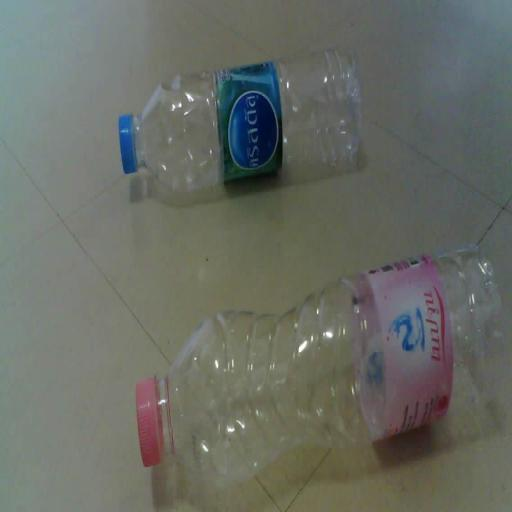bottle: (135, 246, 504, 494), (121, 53, 359, 203)
